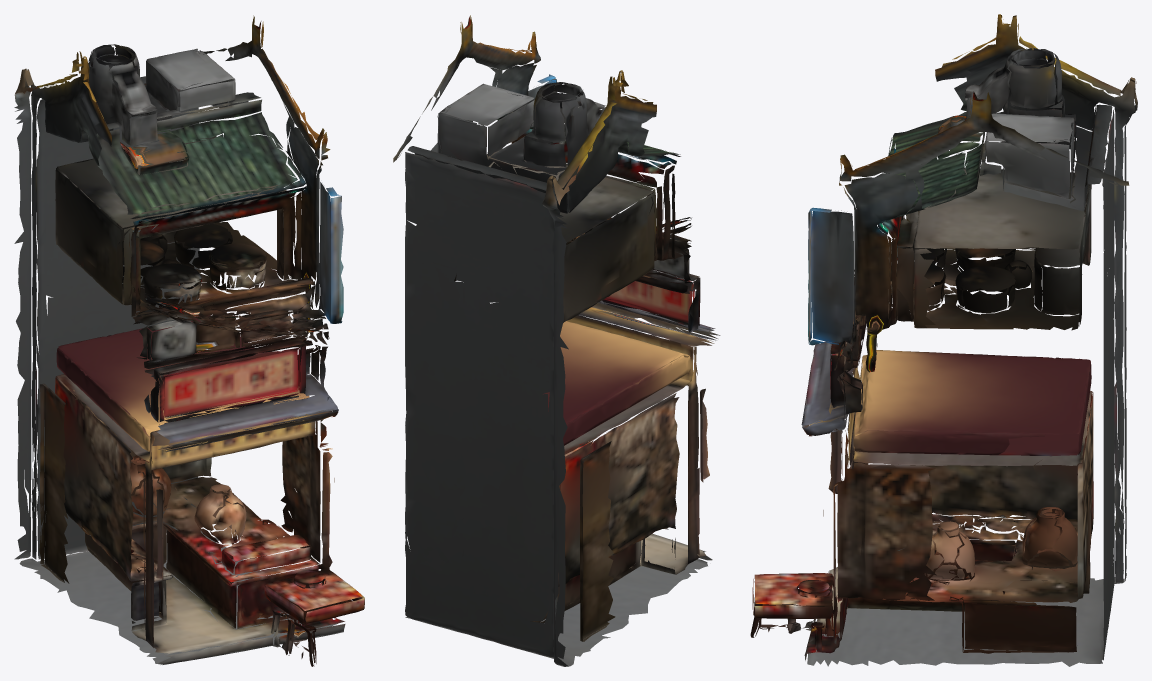
Rendered from Chinatown_House_2.obj.
The picture shows the model from 3 angles, left to right: view 1: azimuth 30°, elevation 25°; view 2: azimuth 150°, elevation 25°; view 3: azimuth 270°, elevation 25°; orthographic projection. The views are drawn at different scales.
Visible parts, largest first — view 1: model; view 2: model; view 3: model.
Boxes of the visible parts, x1,y1,x2,y2 form: model: (14, 15, 364, 666); model: (393, 15, 720, 666); model: (750, 14, 1137, 666).
Size of the model in its own units: 0.1461 by 0.4236 by 0.2594.
1 material, 1 textured.
